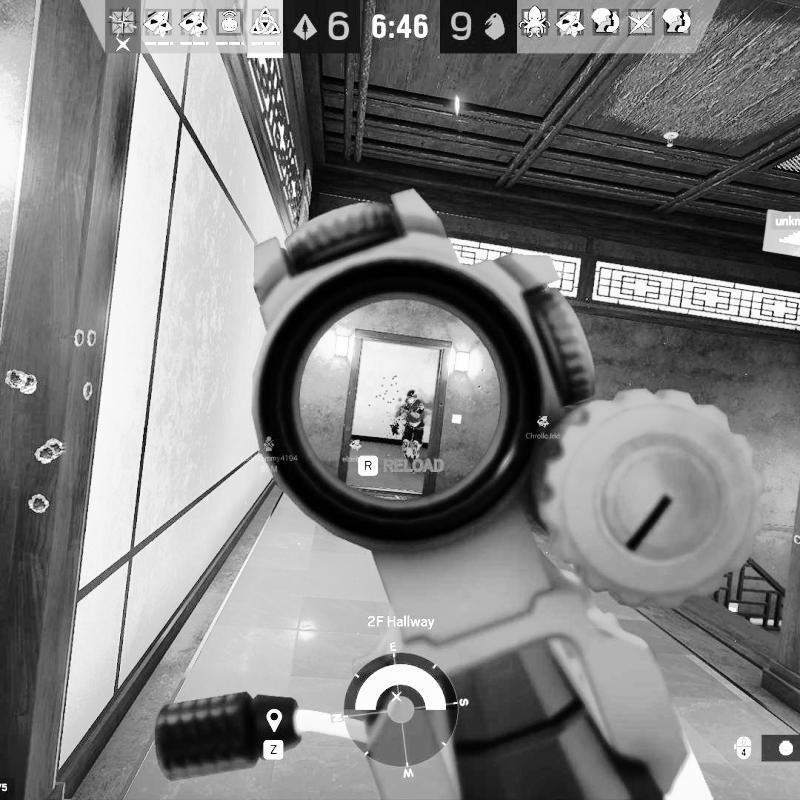Character: (394, 388, 428, 474)
Friend_label: (523, 412, 563, 441), (342, 438, 367, 464)
Head: (405, 389, 420, 403)
